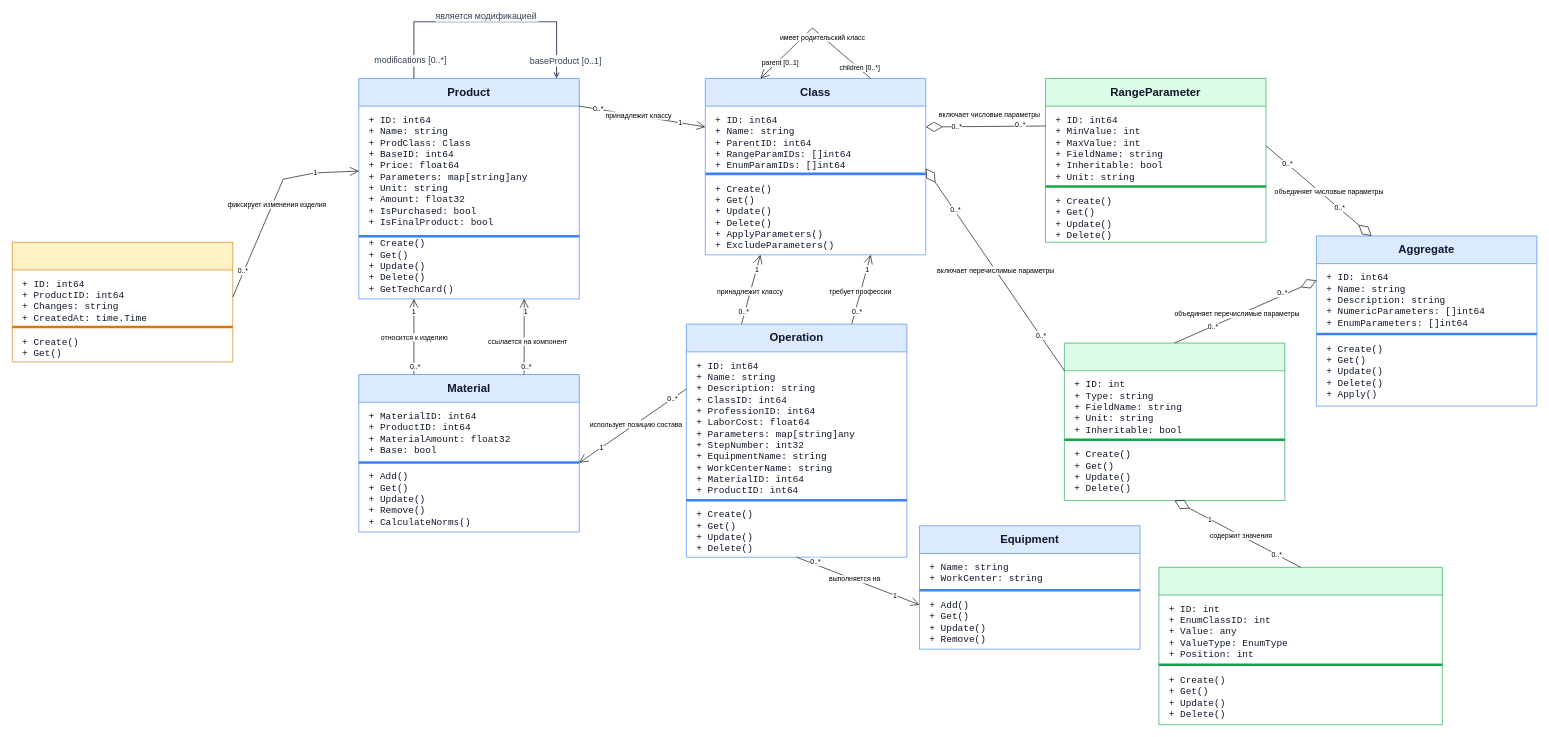
The diagram is 1549 pixels wide and 737 high, and some of its shapes have lost their labels. The shapes that lost their labels are listed below. From the top down, each one's box as (x1, y1, x2, y2) in pixels, then its label:
(12, 242, 233, 362): HistoryRecord
(1064, 342, 1285, 501): EnumClass
(1158, 567, 1442, 725): EnumValue
